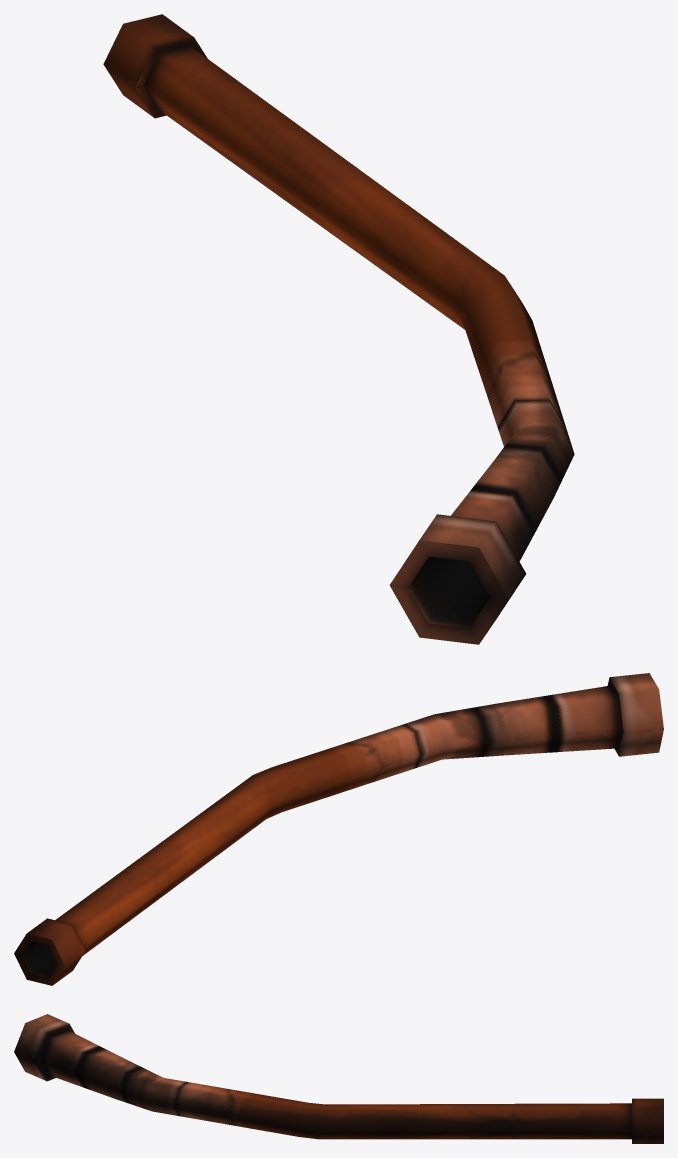
File: MESH_AMB29_tuyau3.fbx
3 renders of one model, top to bottom at view 1: azimuth 30°, elevation 25°; view 2: azimuth 150°, elevation 25°; view 3: azimuth 270°, elevation 25°, orthographic. The views are drawn at different scales.
Visible parts, largest first — view 1: tuyau3; view 2: tuyau3; view 3: tuyau3.
Part boxes in pixels (bbox=[...]): tuyau3: bbox=[103, 14, 574, 644]; tuyau3: bbox=[14, 673, 663, 985]; tuyau3: bbox=[14, 1014, 663, 1143].
Bounding box in the file's own units: 10.19 × 2.38 × 28.84.
Materials: 1 (1 with a texture image).
